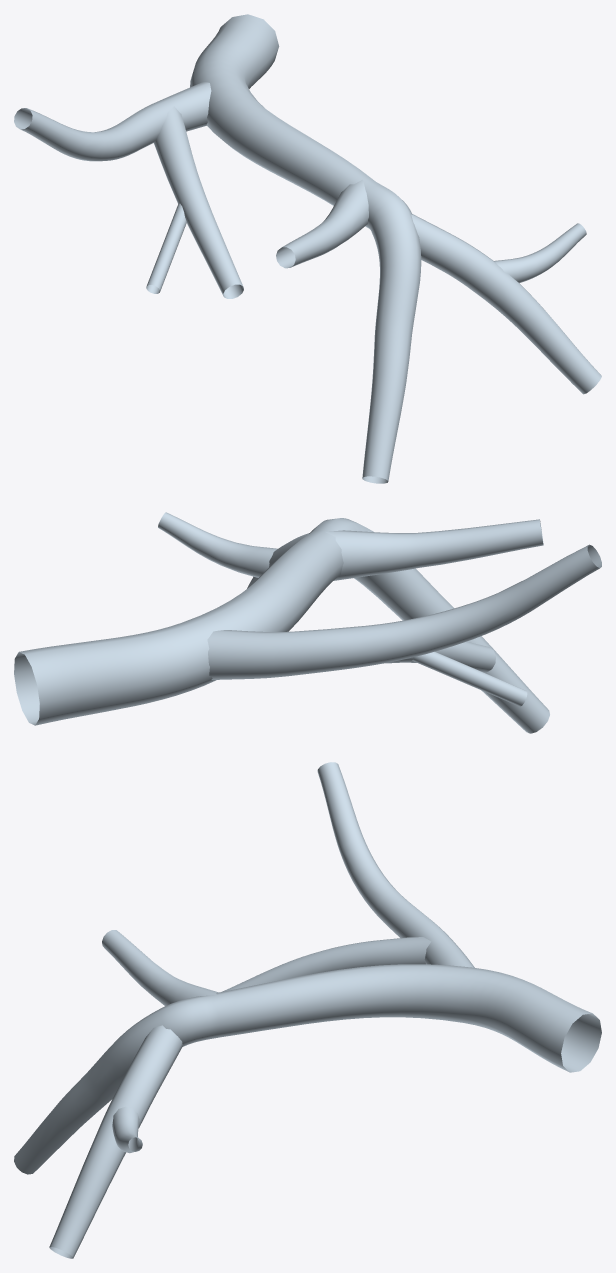
Rendered from visceras-anterior-segmental-bronchus-of-right-lung-biii.glb.
The picture shows the model from 3 angles, top to bottom: view 1: azimuth 30°, elevation 25°; view 2: azimuth 150°, elevation 25°; view 3: azimuth 270°, elevation 25°; orthographic projection. The views are drawn at different scales.
Visible parts, largest first — view 1: Anterior segmental bronchus of right lung (BIII); view 2: Anterior segmental bronchus of right lung (BIII); view 3: Anterior segmental bronchus of right lung (BIII).
Boxes of the visible parts, x1=… form: Anterior segmental bronchus of right lung (BIII): x1=14, y1=14, x2=601, y2=483; Anterior segmental bronchus of right lung (BIII): x1=14, y1=512, x2=601, y2=733; Anterior segmental bronchus of right lung (BIII): x1=14, y1=762, x2=601, y2=1258.
Size of the model in its own units: 0.0731 by 0.0468 by 0.0795.
